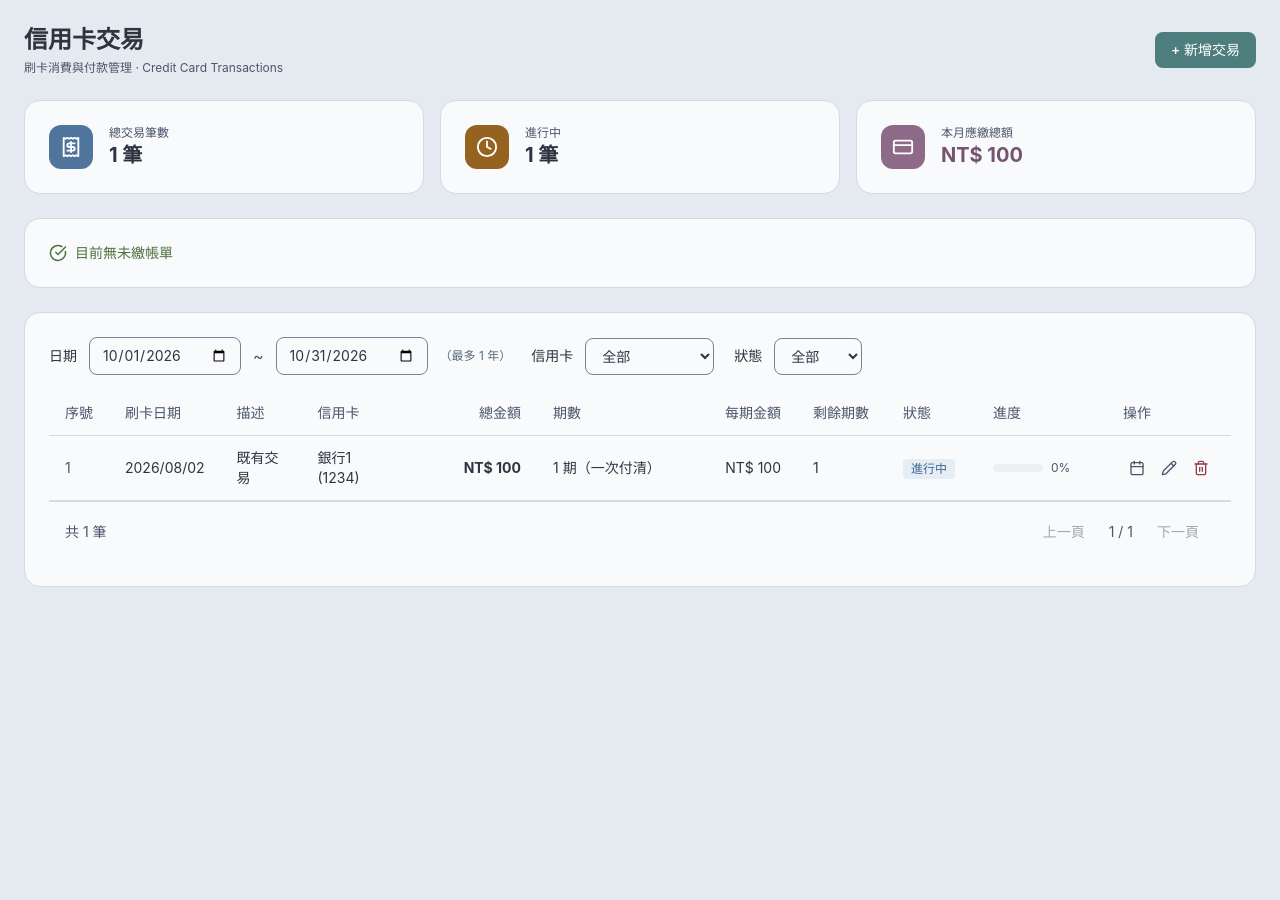
keeps the original resource when editing after an unfinished new-form query
The width and height of the screenshot is (1280, 900).
Click the button "+ 新增交易". click: (1205, 50)
box: left=1155, top=32, right=1256, bottom=68
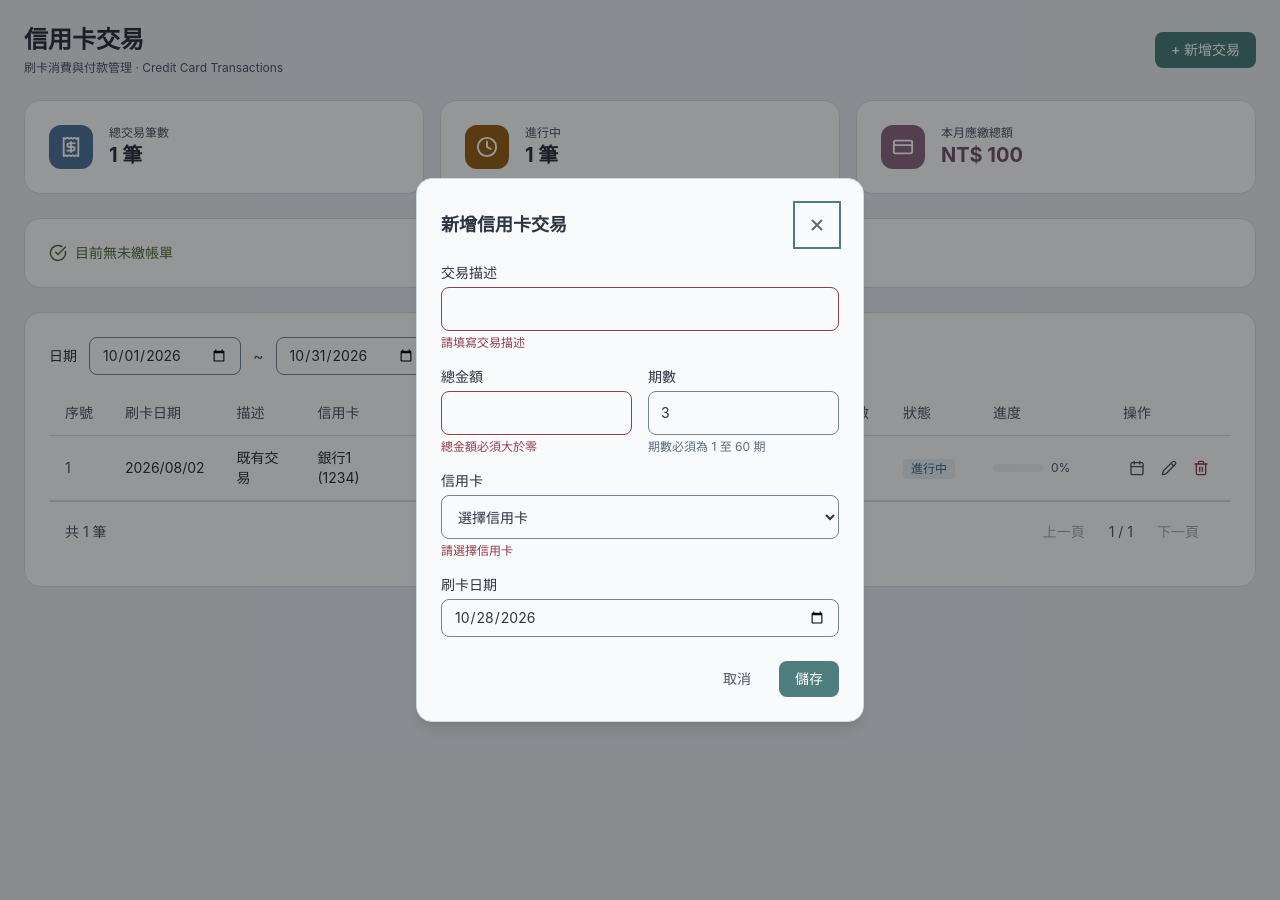
Click the button "取消". click: (737, 679)
box: left=707, top=661, right=767, bottom=697
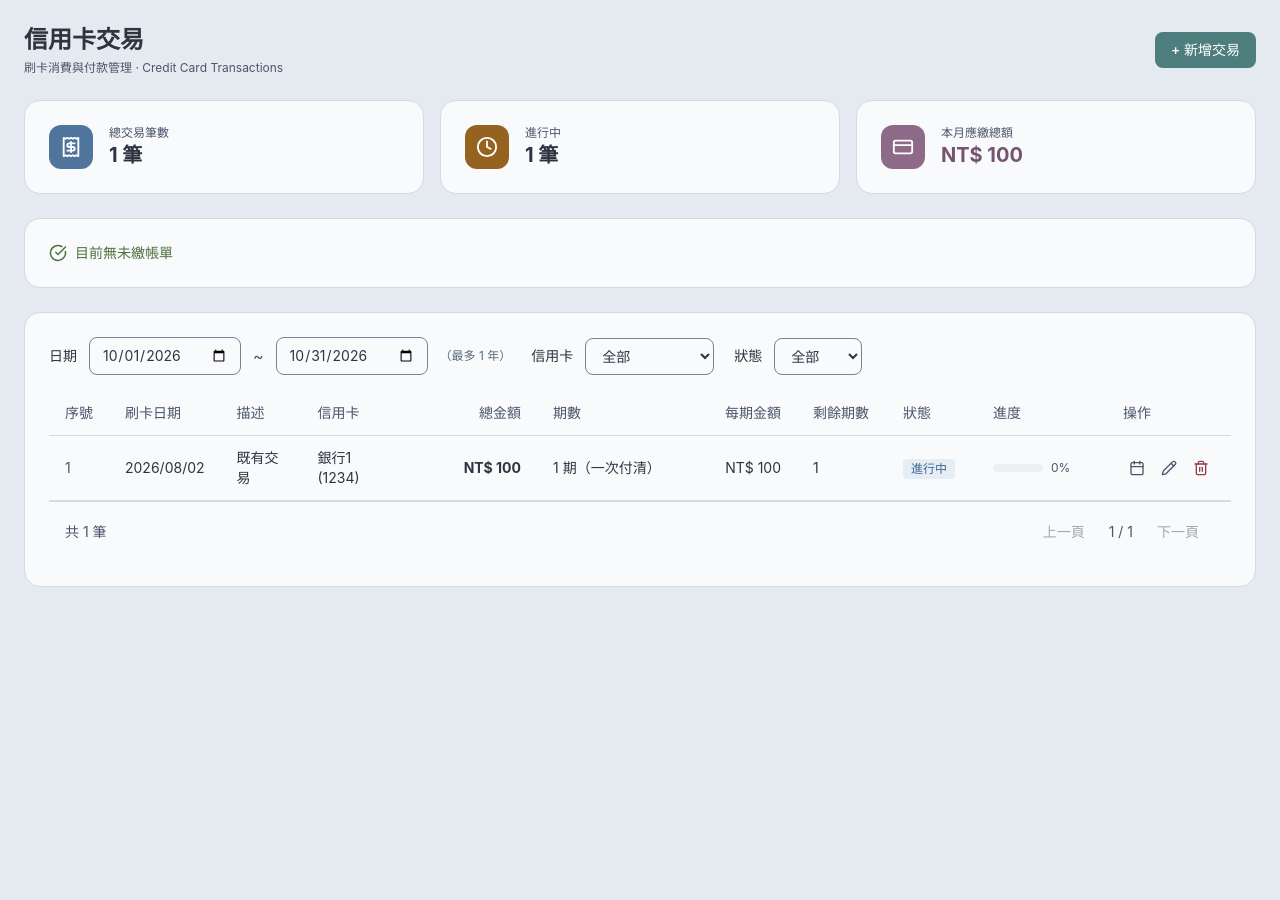
Click the button titled "編輯". click: (1169, 468)
box: left=1155, top=454, right=1183, bottom=482
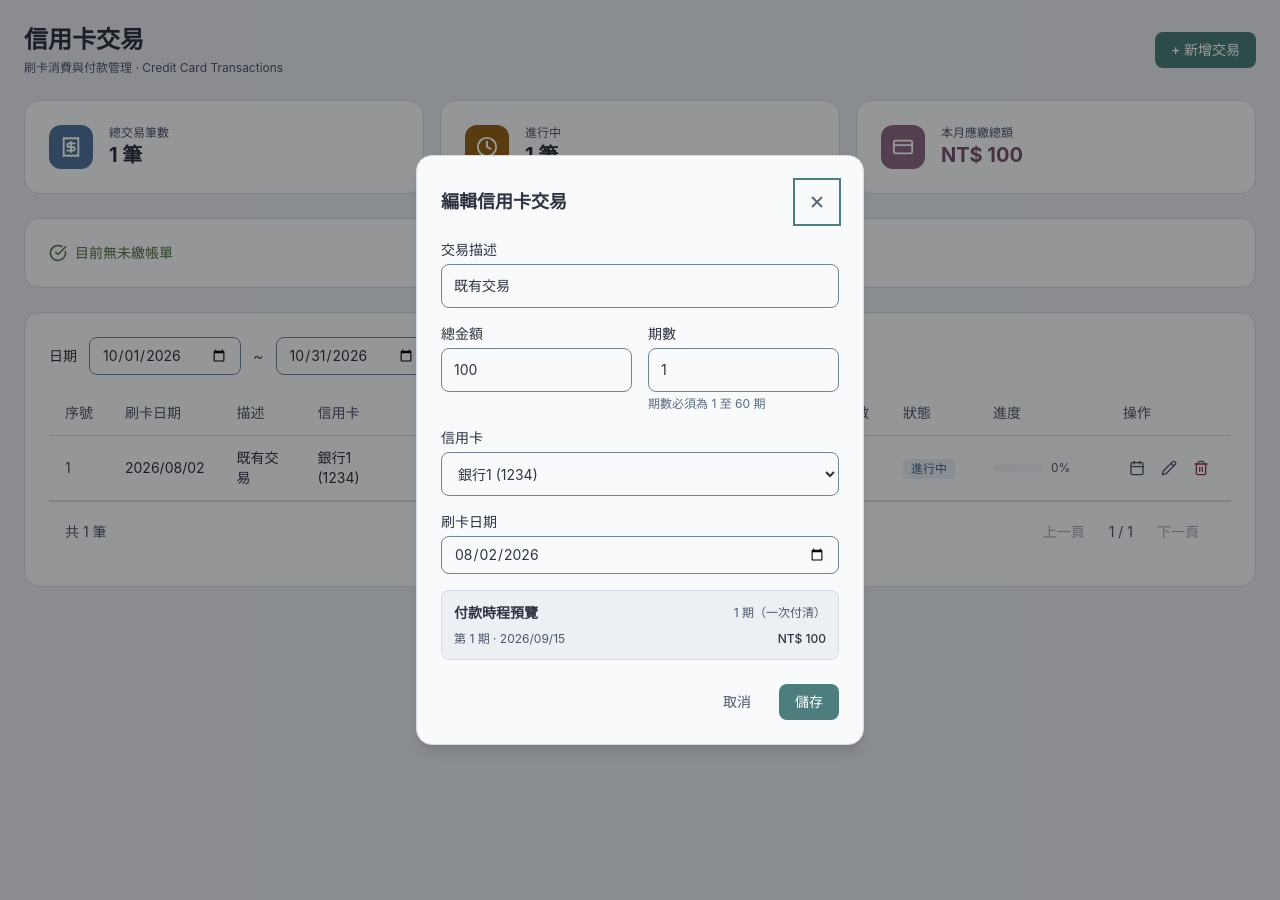
Now the dropdown labelled "信用卡" shows "銀行1 (1234)", box left=441, top=452, right=839, bottom=496
